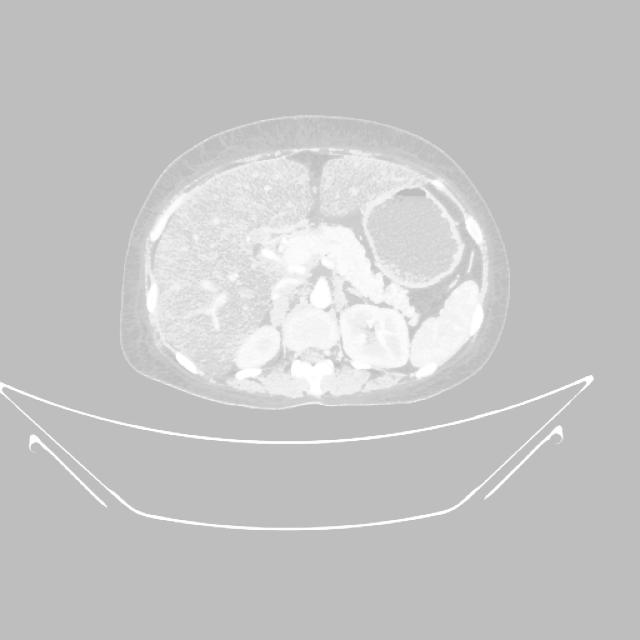NORMAL: (107, 123, 583, 416)
